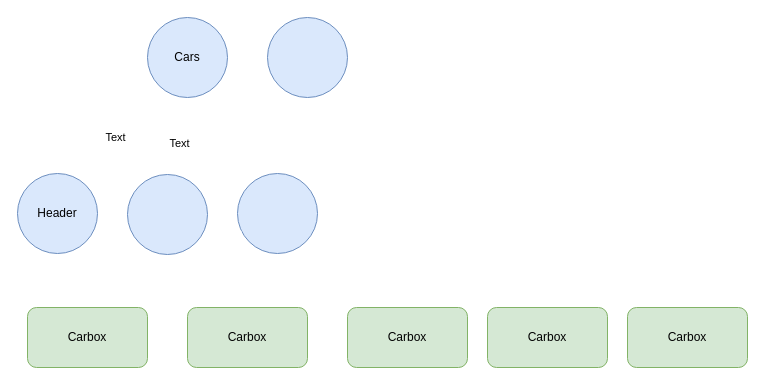
The diagram is 765 pixels wide and 385 high, and some of its shapes have lost their labels. Each missing label, with the centre of its shape:
App: point (307, 57)
Carlists: point (277, 213)
Search: point (167, 214)
